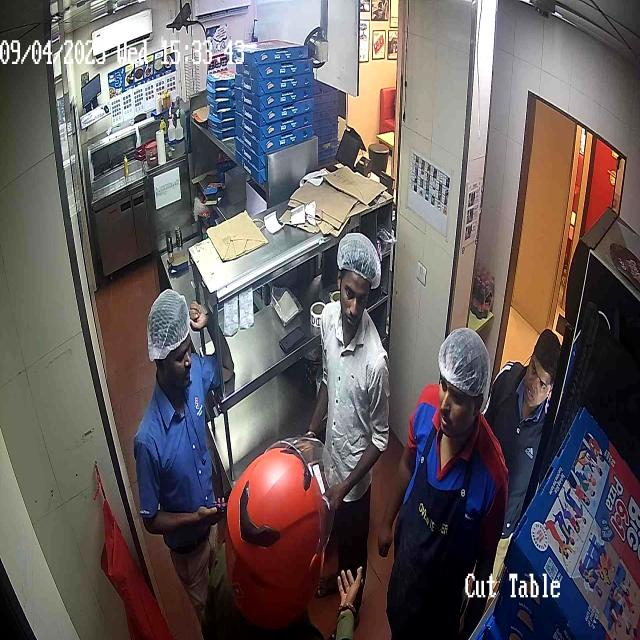helmet: (223, 440, 325, 632)
no_helmet: (438, 325, 490, 439), (146, 288, 192, 411), (337, 233, 381, 345), (523, 328, 561, 408)
